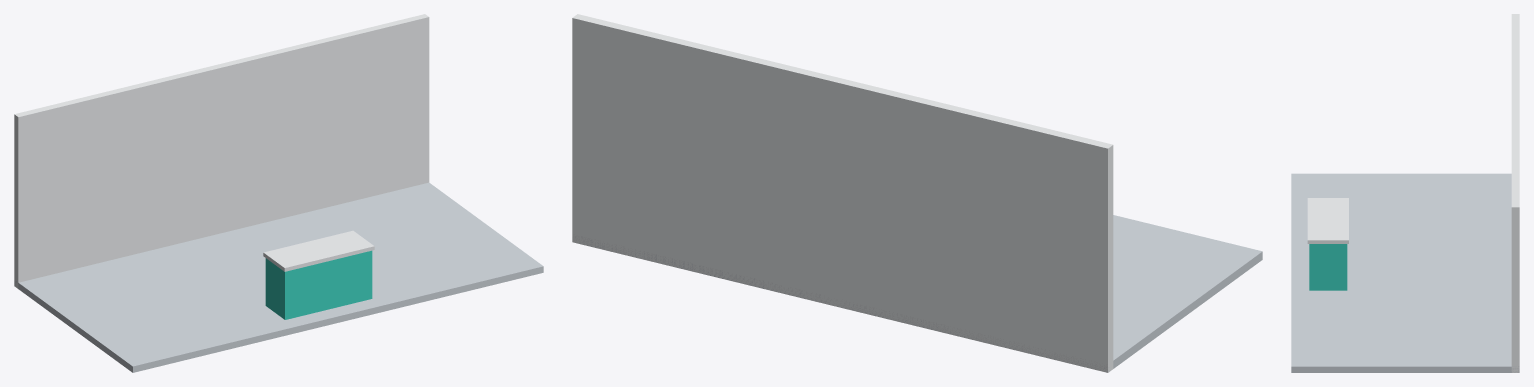
3 views of the same model, side by side, from view 1: azimuth 30°, elevation 25°; view 2: azimuth 150°, elevation 25°; view 3: azimuth 270°, elevation 25° (orthographic). The views are drawn at different scales.
Parts seen in each view (by area): view 1: Exhibition Booth Concept; view 2: Exhibition Booth Concept; view 3: Exhibition Booth Concept.
Part boxes in pixels (x1=…): Exhibition Booth Concept: x1=14, y1=14, x2=543, y2=372; Exhibition Booth Concept: x1=572, y1=14, x2=1262, y2=372; Exhibition Booth Concept: x1=1291, y1=14, x2=1519, y2=372.
Size of the model in its own units: 8 by 3.2 by 4.
